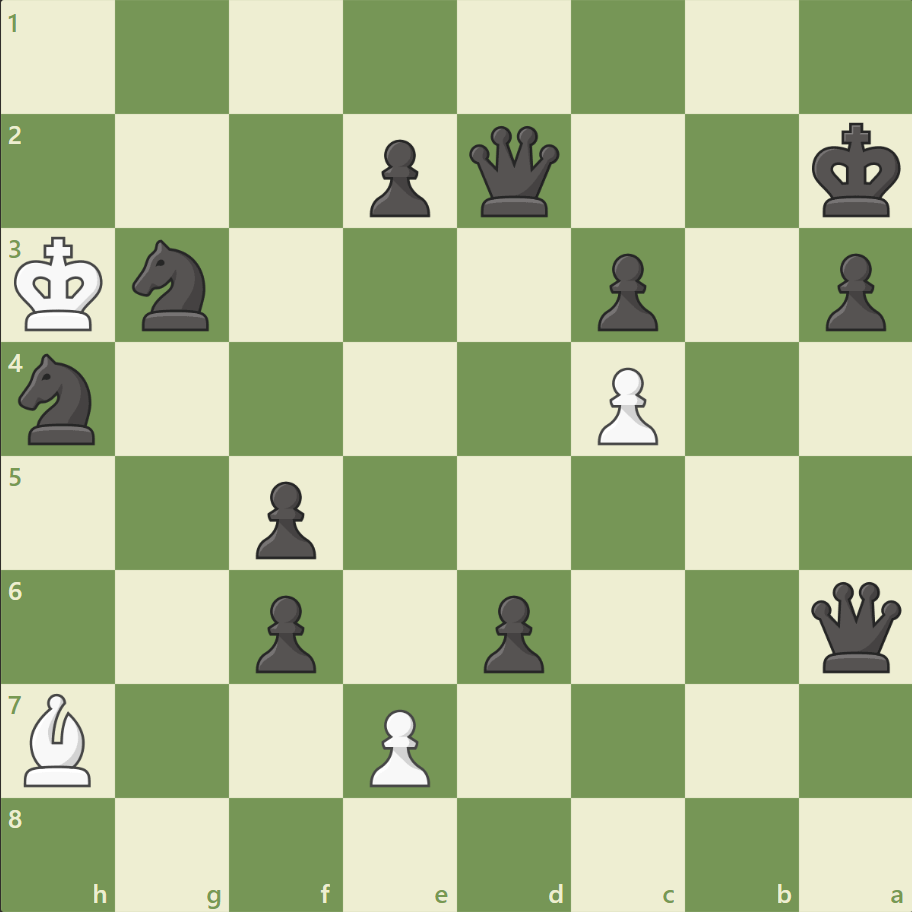B: (17, 687, 101, 790)
K: (11, 231, 111, 339)
P: (361, 700, 435, 791), (588, 359, 662, 450)
k: (806, 117, 906, 225)
n: (124, 234, 222, 337), (11, 348, 108, 450)
p: (474, 586, 549, 677), (247, 586, 322, 677), (247, 473, 322, 564), (815, 246, 889, 337), (588, 246, 662, 337), (361, 132, 435, 223)
q: (805, 576, 904, 676), (464, 122, 563, 222)
